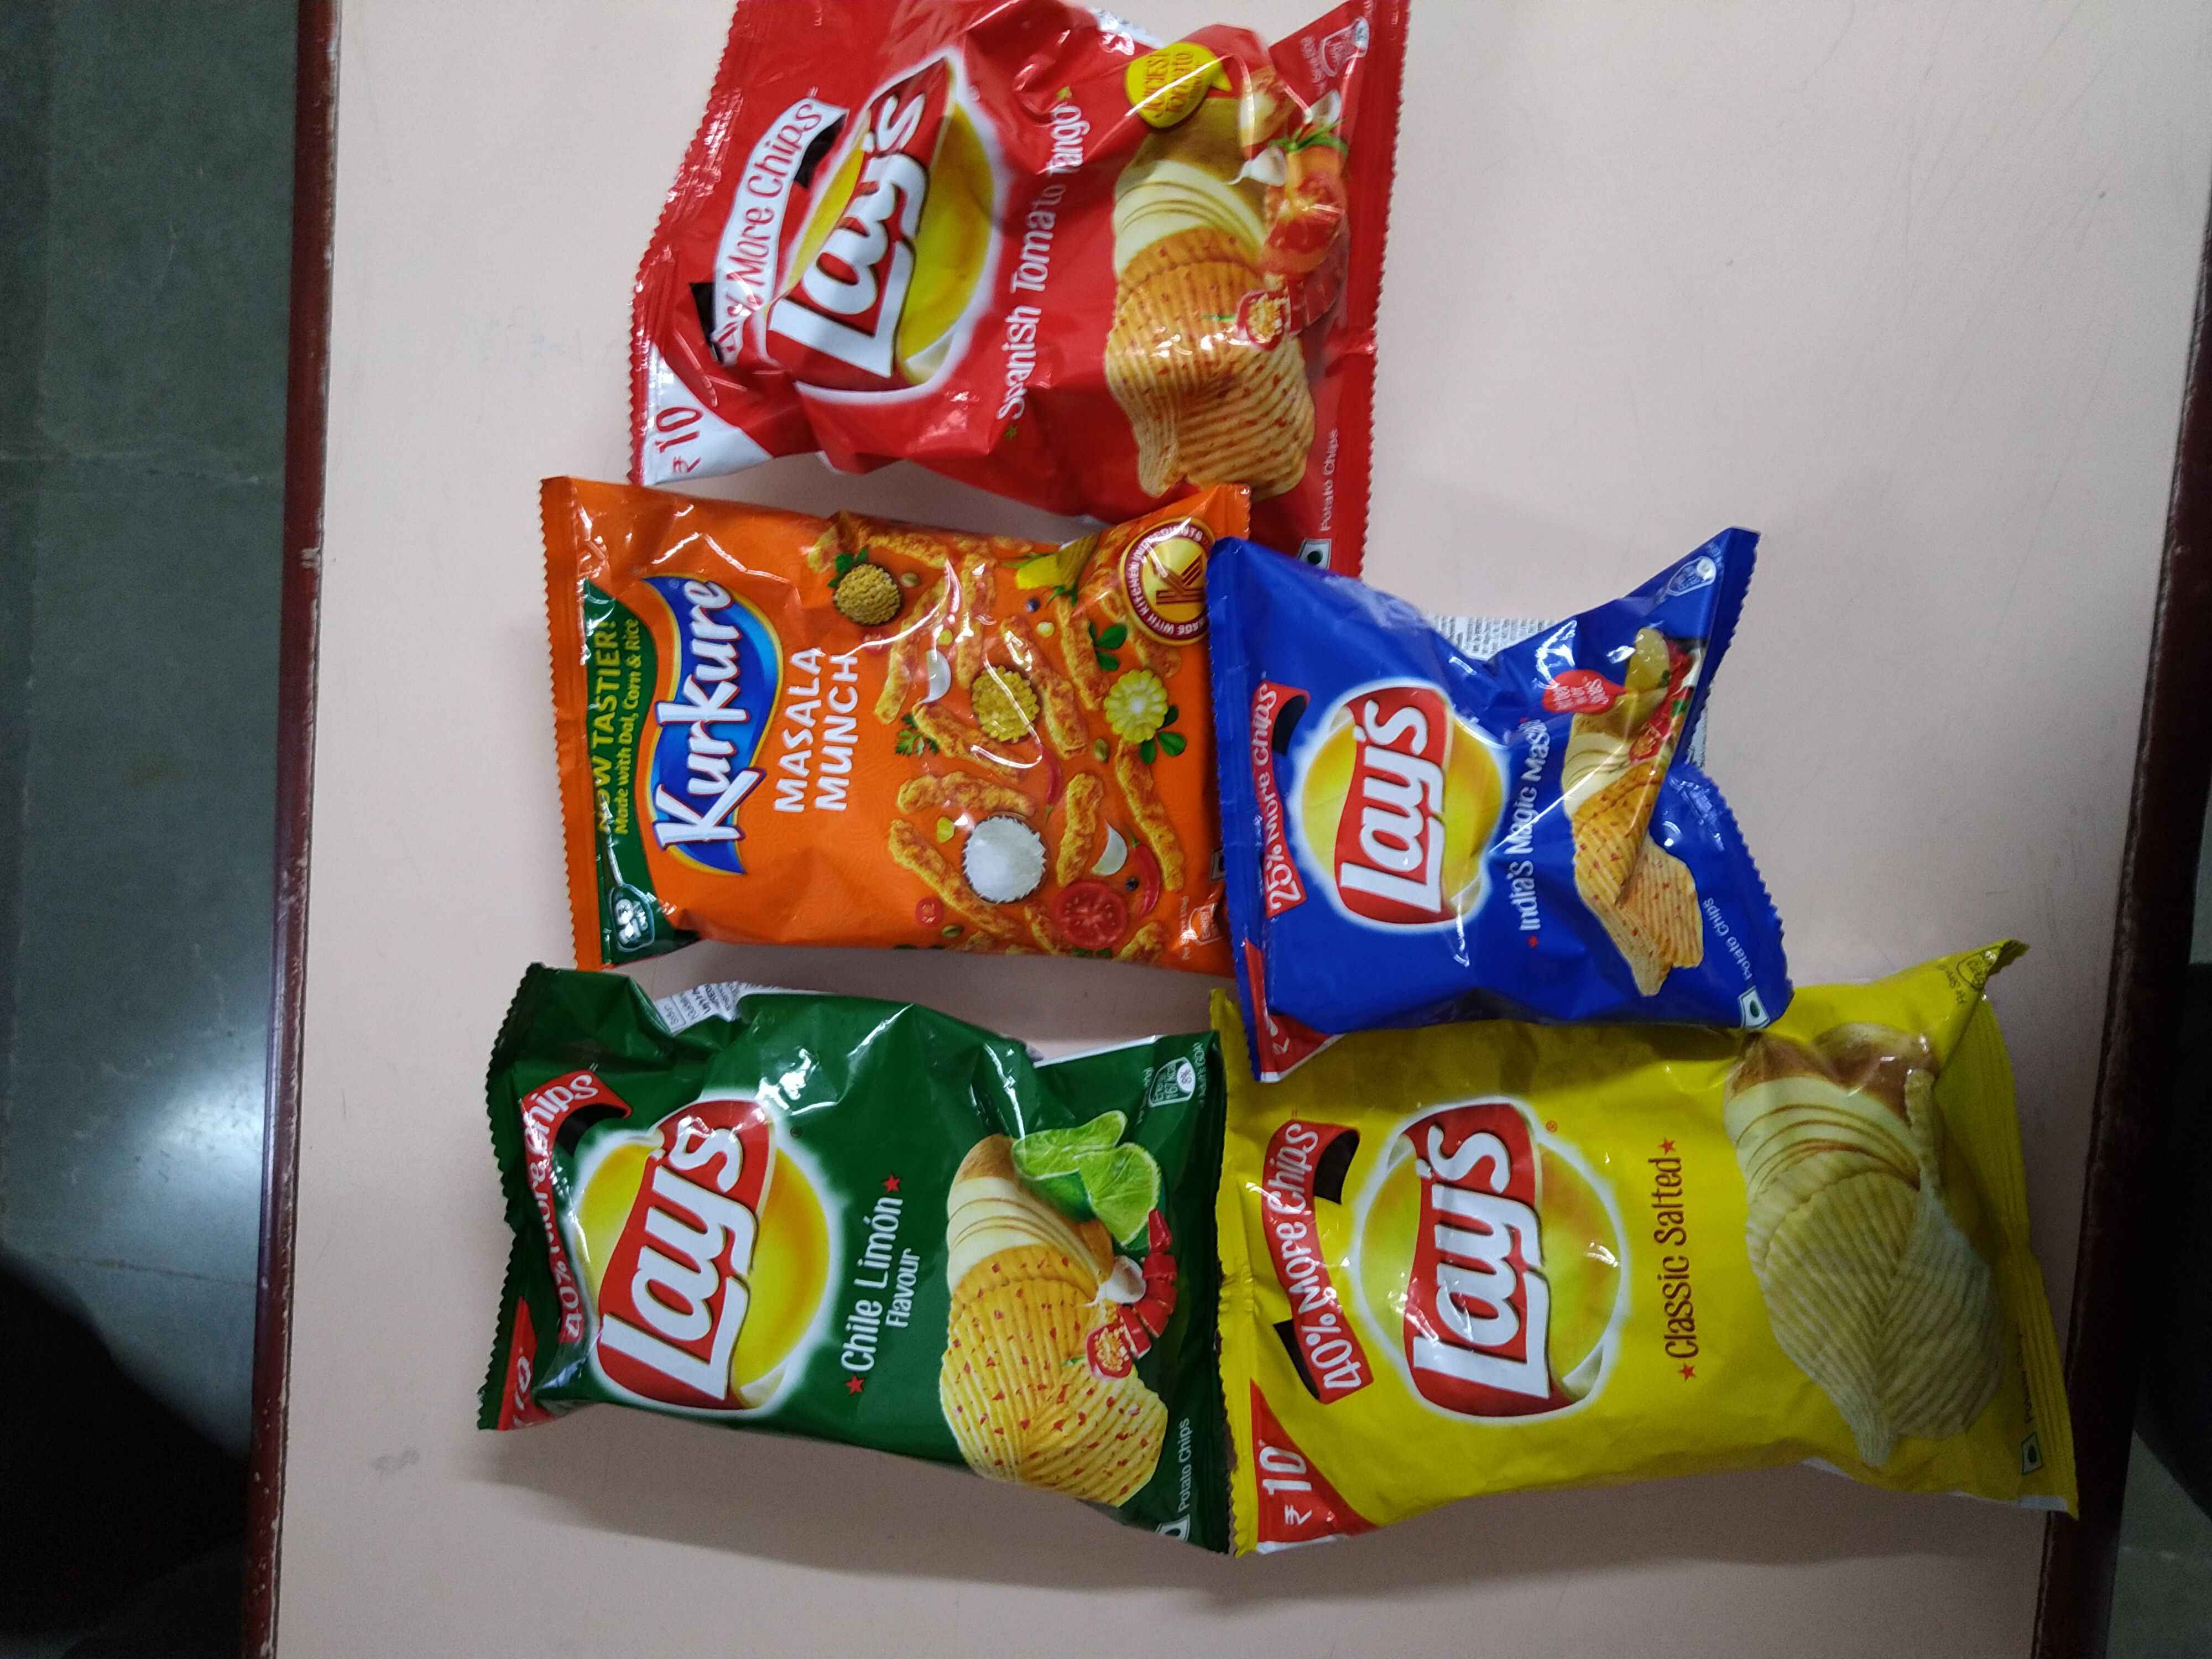Lays: (1352, 1105, 1651, 1422), (575, 1087, 834, 1429), (794, 66, 1000, 401), (1287, 674, 1510, 925)
kurkure: (641, 556, 777, 889)
